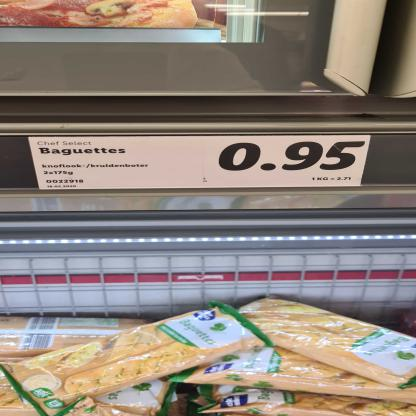prtg: (28, 136, 372, 190)
